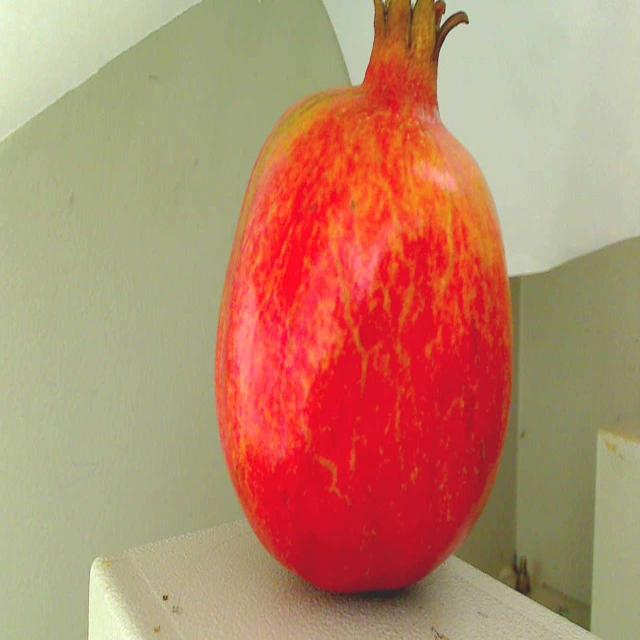pomegranate: (209, 0, 547, 616)
